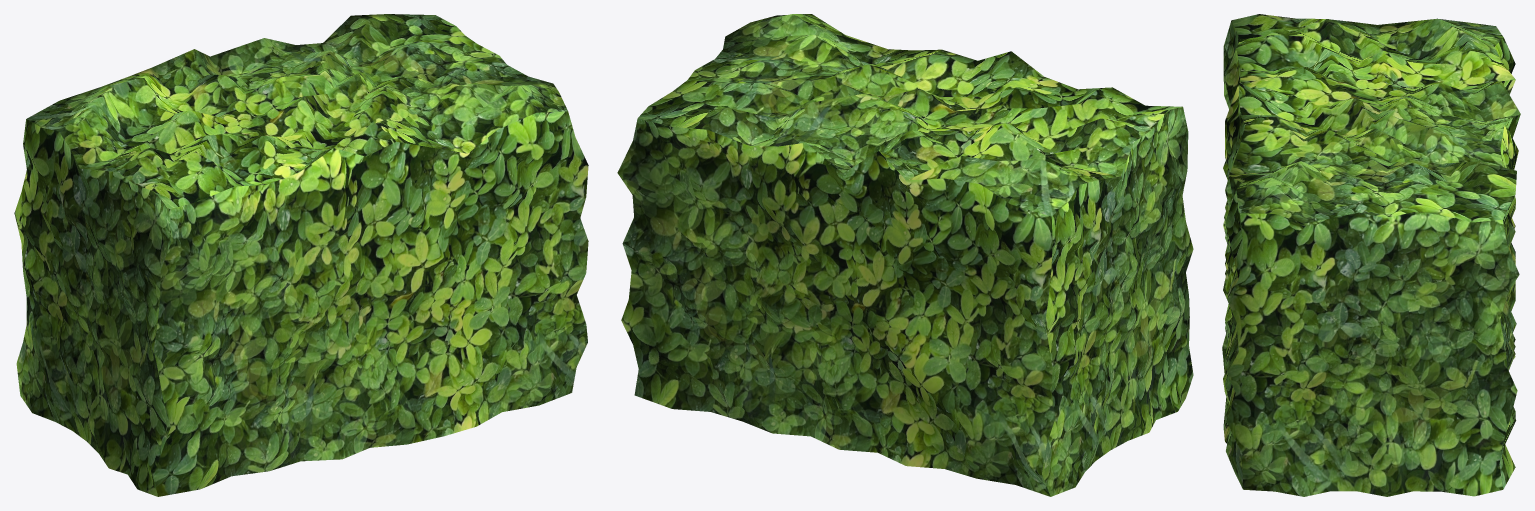
Rendered from Arbusto.fbx.
3 renders of one model, left to right at view 1: azimuth 30°, elevation 25°; view 2: azimuth 150°, elevation 25°; view 3: azimuth 270°, elevation 25°, orthographic. The views are drawn at different scales.
Parts seen in each view (by area): view 1: Cube; view 2: Cube; view 3: Cube.
Part boxes in pixels (left/top/right/bottom): Cube: left=14, top=14, right=588, bottom=496; Cube: left=617, top=14, right=1193, bottom=496; Cube: left=1222, top=14, right=1520, bottom=496.
Bounding box in the file's own units: 49.03 × 33.22 × 30.02.
